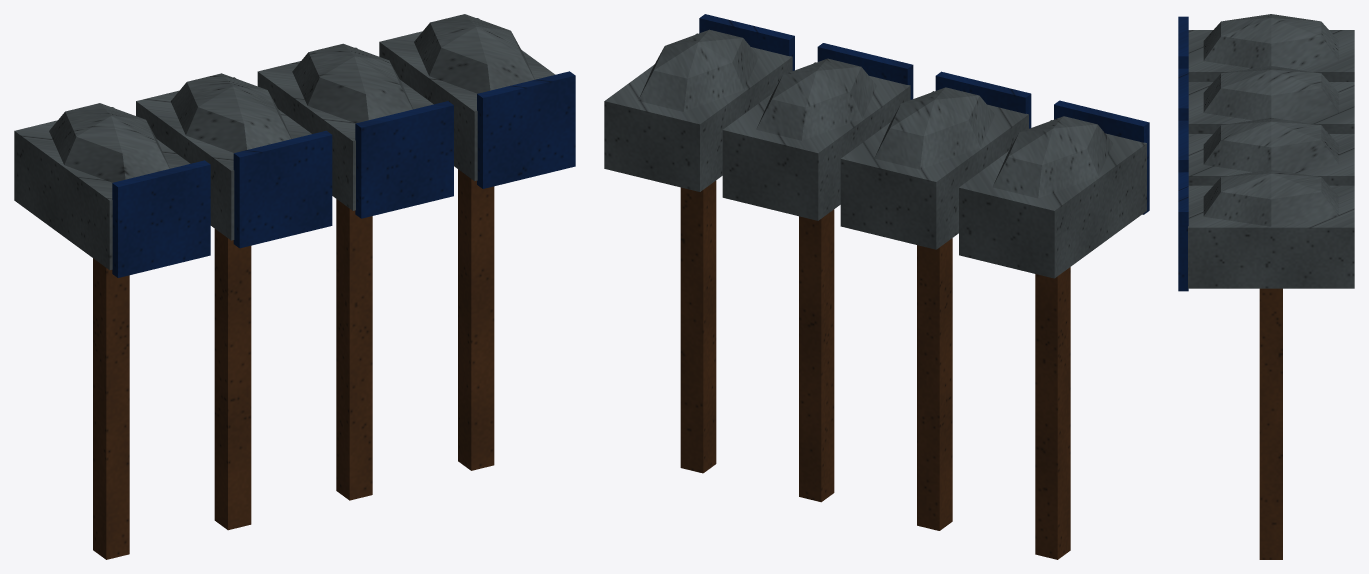
Rendered from PROP-1B4657A9BD58_lod2.glb.
3 renders of one model, left to right at view 1: azimuth 30°, elevation 25°; view 2: azimuth 150°, elevation 25°; view 3: azimuth 270°, elevation 25°, orthographic. The views are drawn at different scales.
Visible parts, largest first — view 1: mail_post.002, mailbox_door.002, mailbox_round_roof.002, mailbox_lower.002; view 2: mailbox_lower.002, mail_post.002, mailbox_round_roof.002, mailbox_door.002; view 3: mailbox_round_roof.002, mailbox_lower.002, mail_post.002, mailbox_door.002.
Boxes of the visible parts, x1=… form: mail_post.002: x1=93, y1=169, x2=494, y2=559; mailbox_door.002: x1=112, y1=71, x2=575, y2=277; mailbox_round_roof.002: x1=49, y1=14, x2=534, y2=182; mailbox_lower.002: x1=14, y1=18, x2=555, y2=270; mailbox_lower.002: x1=604, y1=33, x2=1146, y2=278; mail_post.002: x1=680, y1=180, x2=1070, y2=559; mailbox_round_roof.002: x1=638, y1=29, x2=1113, y2=198; mailbox_door.002: x1=699, y1=14, x2=1149, y2=214; mailbox_round_roof.002: x1=1203, y1=14, x2=1338, y2=226; mailbox_lower.002: x1=1188, y1=30, x2=1354, y2=288; mail_post.002: x1=1259, y1=288, x2=1282, y2=559; mailbox_door.002: x1=1178, y1=16, x2=1188, y2=291.
Size of the model in its own units: 1.6 by 1.44 by 0.6025.
Materials: 3 (3 with a texture image).
